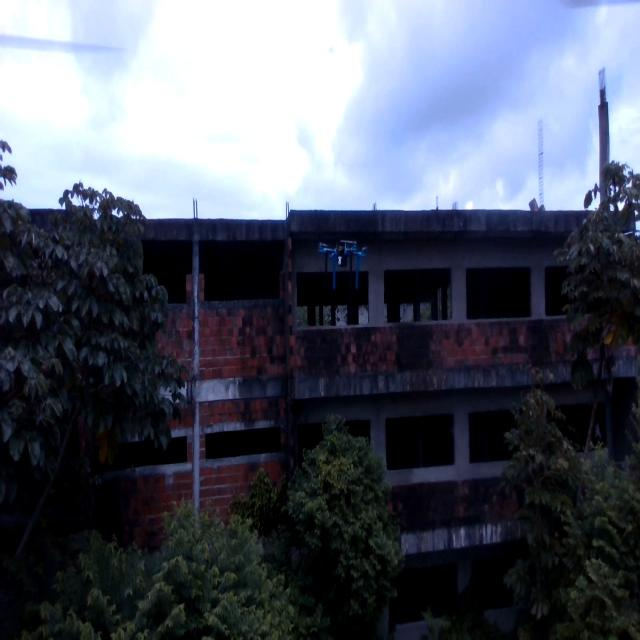-uav-: (310, 224, 377, 299)
